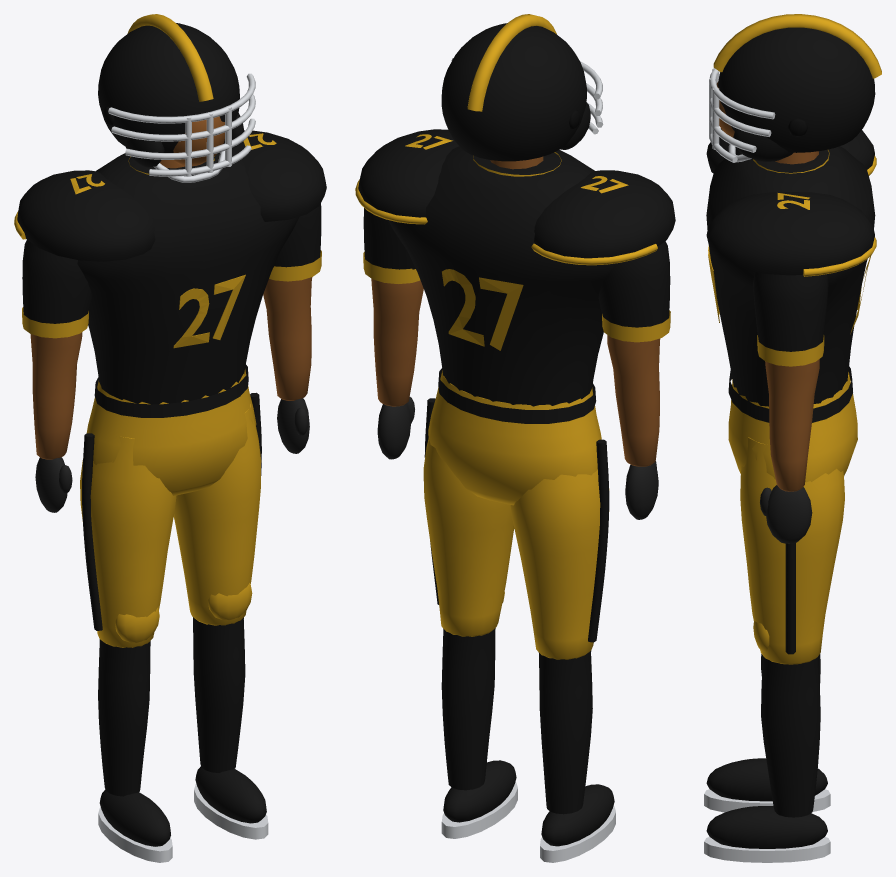
The picture shows the model from 3 angles, left to right: view 1: azimuth 30°, elevation 25°; view 2: azimuth 150°, elevation 25°; view 3: azimuth 270°, elevation 25°; orthographic projection. The views are drawn at different scales.
Visible parts, largest first — view 1: player_L4; view 2: player_L4; view 3: player_L4.
Part boxes in pixels (<box>): player_L4: <box>14,14,326,862</box>; player_L4: <box>355,14,675,862</box>; player_L4: <box>704,14,881,862</box>.
Bounding box in the file's own units: 0.7304 × 1.91 × 0.378.
